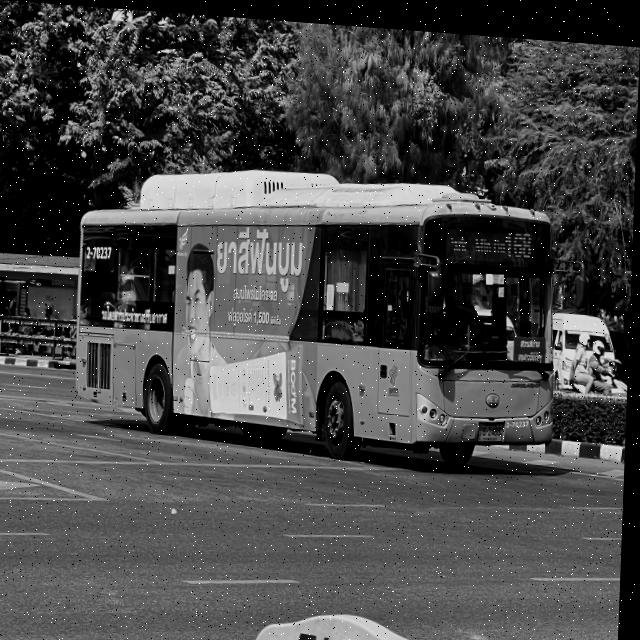BMTA-bus: (73, 155, 565, 470)
Bus-Line-Number: (504, 216, 534, 255)
Destination-Sign-Normal: (515, 326, 549, 357)
